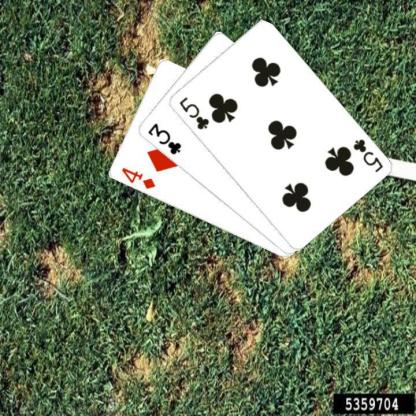3C: (144, 120, 182, 156)
4D: (118, 165, 156, 191)
5C: (350, 136, 384, 174), (176, 94, 210, 131)
